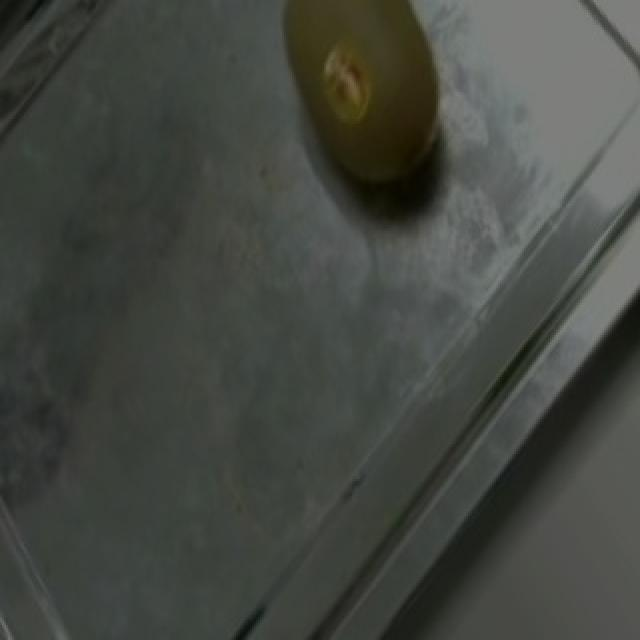Fruit: (236, 0, 484, 236)
